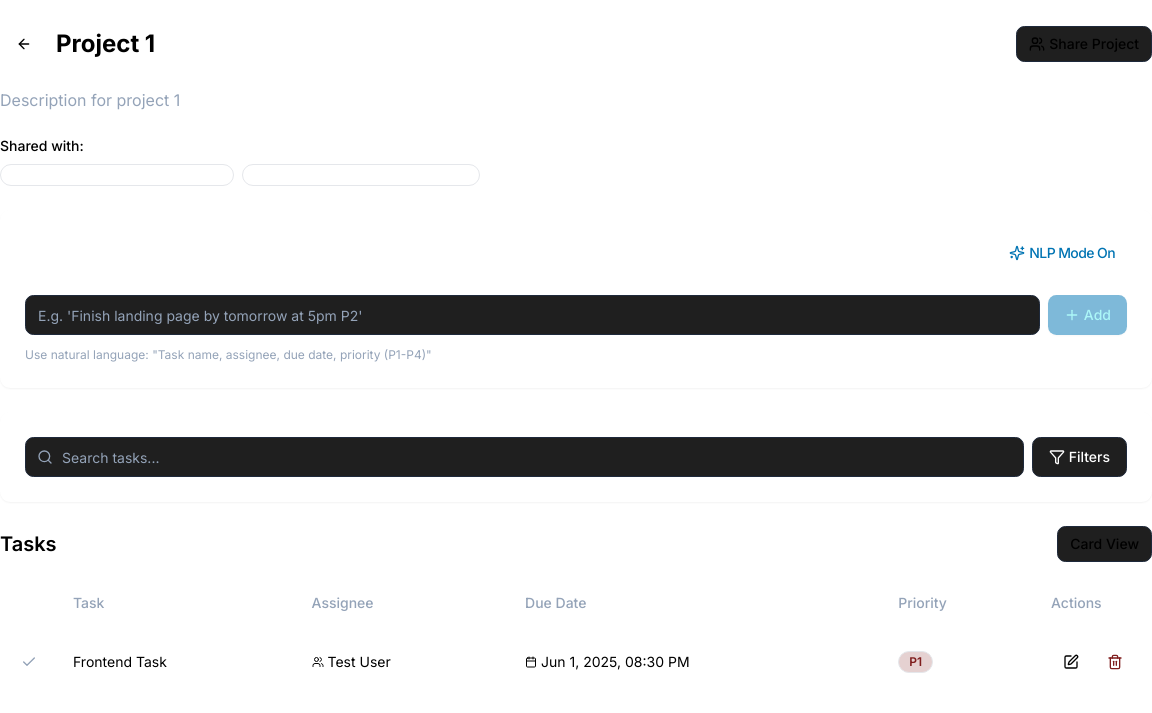
ProjectPage › Project Sharing › should open share dialog when share button is clicked
Note: Click share button
Click the button "Share Project": (1084, 44) [1016,26,1151,62]
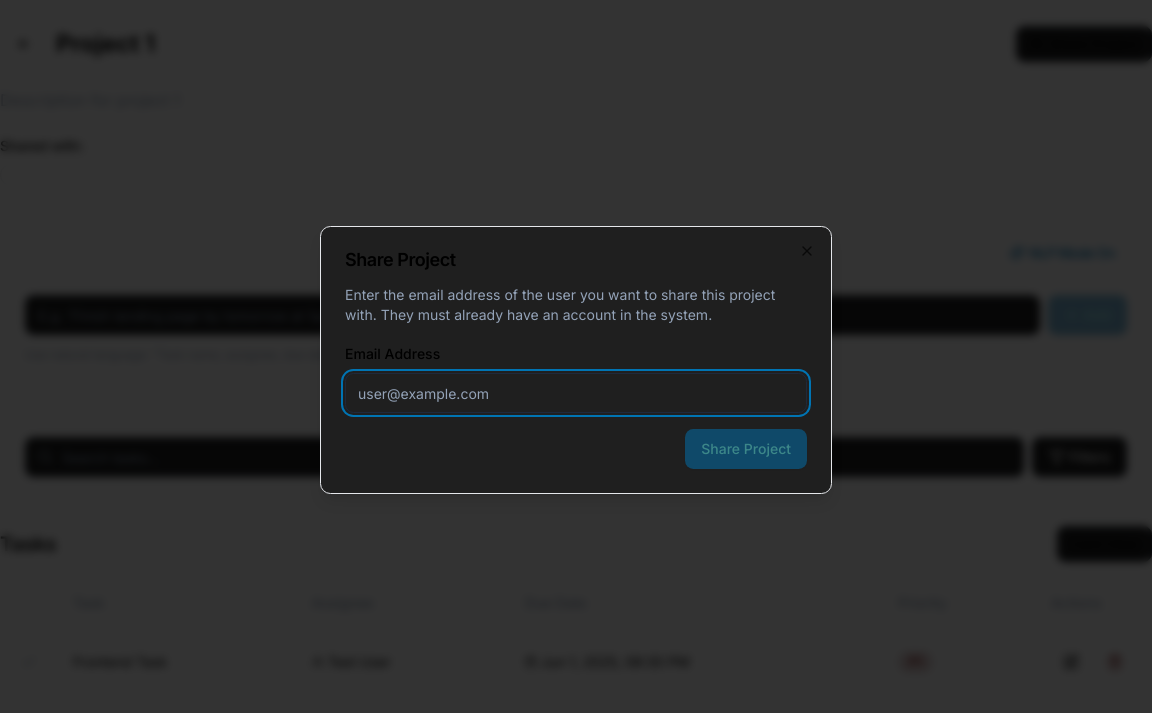
Check: the heading "Share Project" is shown, box [345,249,456,270]
Check: the field with placeholder "user@example.com" is shown, box [345,373,807,413]
